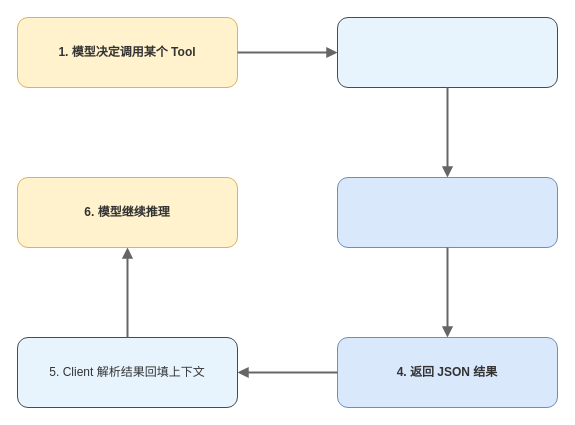
Some shapes in this 575 by 425 pixel diagram are drawn without their labels. The shapes that lost their labels are listed below. From the top down, each one's centre as x and y in pixels, then its label:
At point 447,52: "2. Client 翻译为 tools/call 请求".
At point 447,212: "3. Server 接收请求并执行 SQL".
